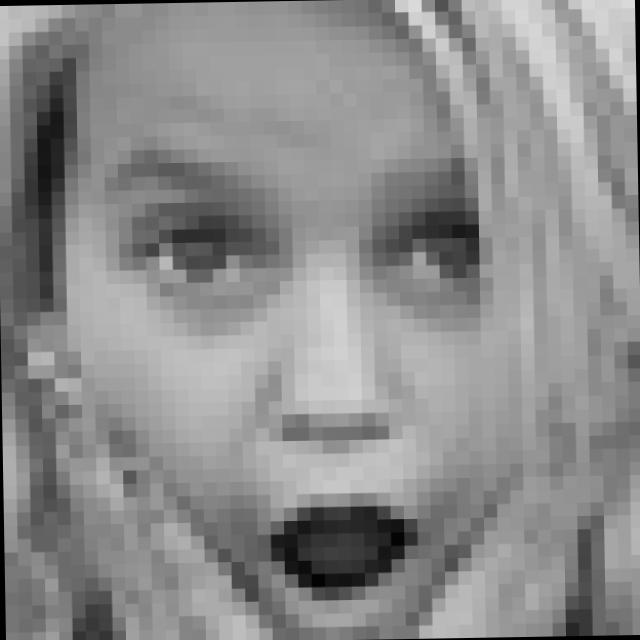surprise: (95, 132, 501, 610)
